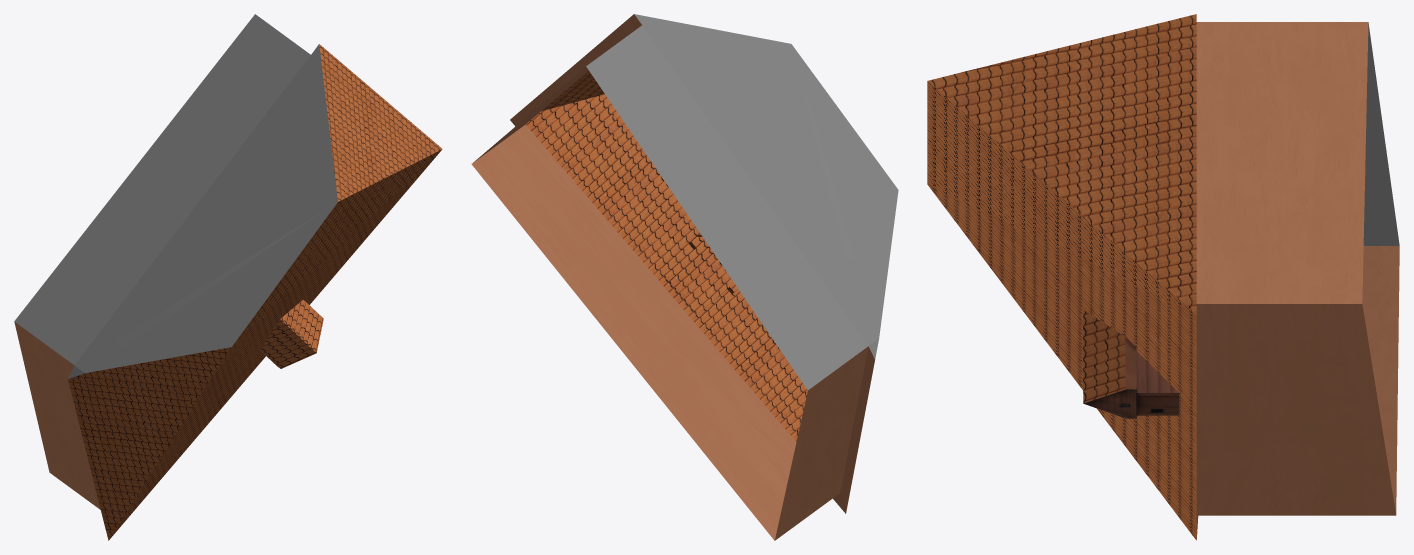
File: Kiriku_8_3.obj
3 renders of one model, left to right at view 1: azimuth 30°, elevation 25°; view 2: azimuth 150°, elevation 25°; view 3: azimuth 270°, elevation 25°, orthographic. The views are drawn at different scales.
Visible parts, largest first — view 1: Kiriku_8_3; view 2: Kiriku_8_3; view 3: Kiriku_8_3.
Part boxes in pixels (x1,y1,x2,y2): Kiriku_8_3: [14, 14, 442, 540]; Kiriku_8_3: [471, 14, 898, 540]; Kiriku_8_3: [927, 14, 1399, 540].
Size of the model in its own units: 11.83 by 13.65 by 8.53.
4 materials, 3 textured.
